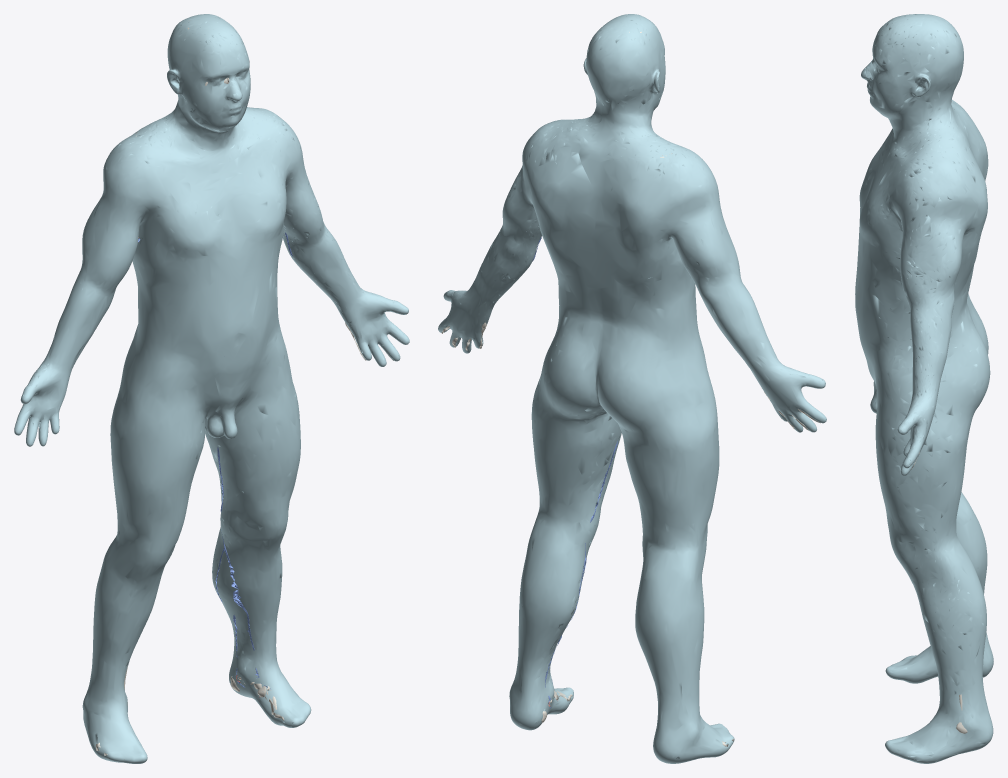
Rendered from body.glb.
3 views of the same model, side by side, from view 1: azimuth 30°, elevation 25°; view 2: azimuth 150°, elevation 25°; view 3: azimuth 270°, elevation 25° (orthographic). The views are drawn at different scales.
Parts seen in each view (by area): view 1: skin, veins; view 2: skin; view 3: skin.
Part boxes in pixels (<box>): skin: <box>14,14,409,763</box>; veins: <box>138,232,292,688</box>; skin: <box>438,14,826,763</box>; skin: <box>855,14,993,763</box>.
Size of the model in its own units: 1 by 1.75 by 0.3123.
